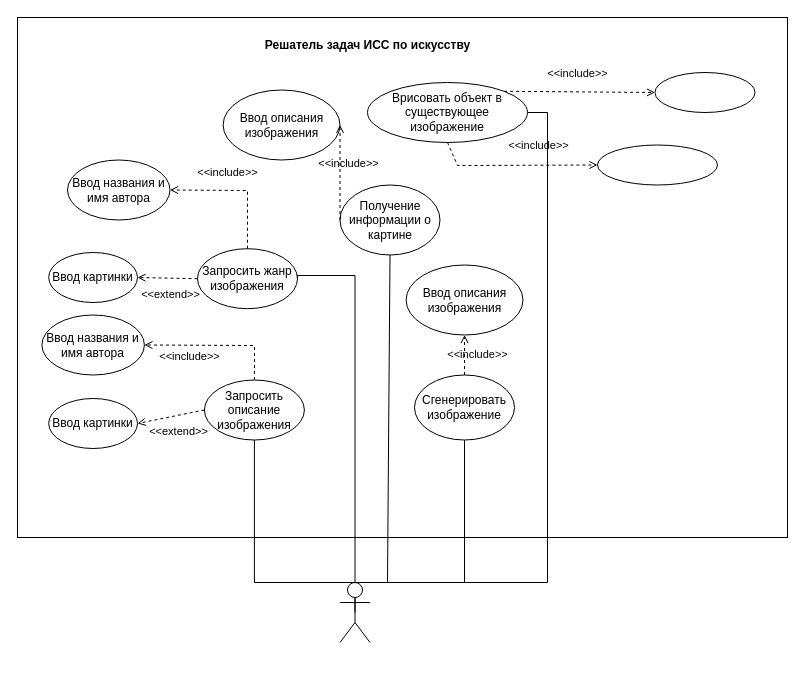
Some shapes in this 805 by 681 pixel diagram are drawn without their labels. The centre of each missing label's shape, as x and y in pixels:
Ввод изображения: the point at 657,164
Ввод описания объекта: the point at 704,92
Пользователь: the point at 354,612
